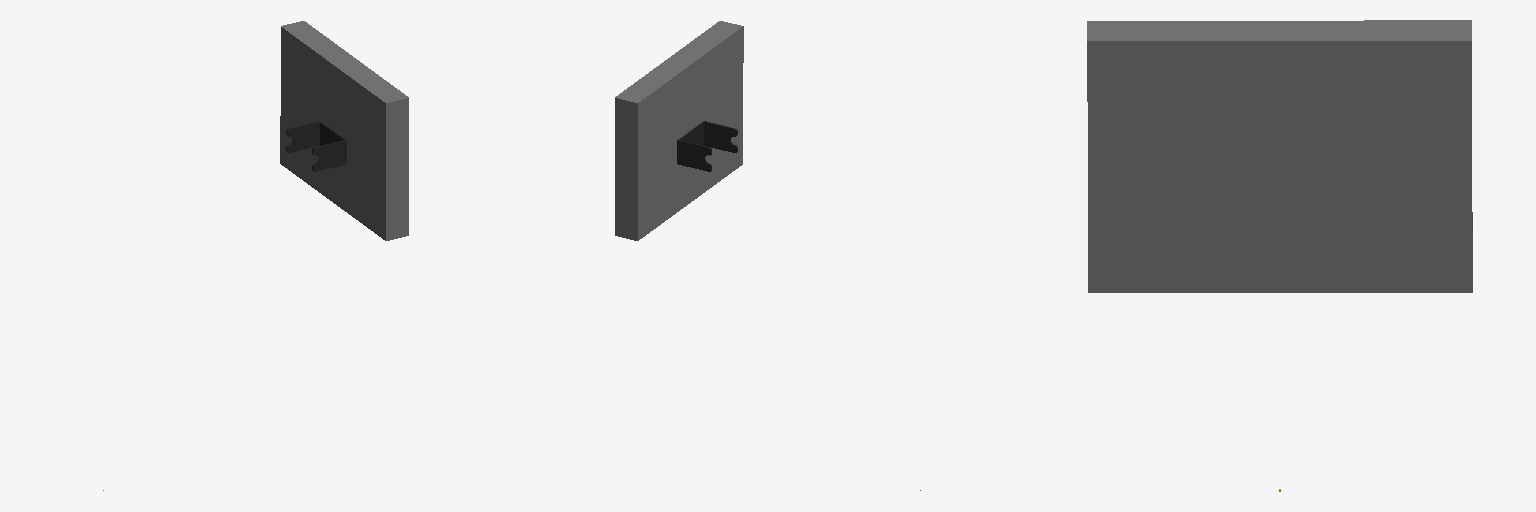
URDF robot description (shutter):
<?xml version="1.0" ?>
<!-- =================================================================================== -->
<!-- |    This document was autogenerated by xacro from shutter.v.2.0.xacro            | -->
<!-- |    EDITING THIS FILE BY HAND IS NOT RECOMMENDED                                 | -->
<!-- =================================================================================== -->
<robot name="shutter">
  <transmission name="tran1">
    <type>transmission_interface/SimpleTransmission</type>
    <joint name="joint_1">
      <hardwareInterface>PositionJointInterface</hardwareInterface>
      <hardwareInterface>EffortJointInterface</hardwareInterface>
    </joint>
    <actuator name="motor1">
      <mechanicalReduction>1</mechanicalReduction>
    </actuator>
  </transmission>
  <transmission name="tran2">
    <type>transmission_interface/SimpleTransmission</type>
    <joint name="joint_2">
      <hardwareInterface>PositionJointInterface</hardwareInterface>
      <hardwareInterface>EffortJointInterface</hardwareInterface>
    </joint>
    <actuator name="motor2">
      <mechanicalReduction>1</mechanicalReduction>
    </actuator>
  </transmission>
  <transmission name="tran3">
    <type>transmission_interface/SimpleTransmission</type>
    <joint name="joint_3">
      <hardwareInterface>PositionJointInterface</hardwareInterface>
      <hardwareInterface>EffortJointInterface</hardwareInterface>
    </joint>
    <actuator name="motor3">
      <mechanicalReduction>1</mechanicalReduction>
    </actuator>
  </transmission>
  <transmission name="tran4">
    <type>transmission_interface/SimpleTransmission</type>
    <joint name="joint_4">
      <hardwareInterface>PositionJointInterface</hardwareInterface>
      <hardwareInterface>EffortJointInterface</hardwareInterface>
    </joint>
    <actuator name="motor4">
      <mechanicalReduction>1</mechanicalReduction>
    </actuator>
  </transmission>
  <!-- base footprint -->
  <link name="base_footprint">
    <visual>
      <origin rpy="0 0 0" xyz="0 0 0"/>
      <geometry>
        <box size="0.001 0.001 0.001"/>
      </geometry>
    </visual>
  </link>
  <!-- links -->
  <link name="base_link">
    <visual>
      <origin rpy="0 0 0" xyz="0 0 0"/>
      <geometry>
        <mesh filename="package://shutter_description/meshes/base_link.stl"/>
      </geometry>
      <material name="">
        <color rgba="0.2 0.2 0.2 1.0"/>
      </material>
    </visual>
    <collision>
      <origin rpy="0 0 0" xyz="0 0 0"/>
      <geometry>
        <mesh filename="package://shutter_description/meshes/base_link.stl"/>
      </geometry>
    </collision>
    <inertial>
      <origin rpy="0 0 0" xyz="0 0 0"/>
      <mass value="1"/>
      <inertia ixx="1.0" ixy="0.0" ixz="0.0" iyy="1.0" iyz="0.0" izz="1.0"/>
    </inertial>
  </link>
  <link name="shoulder_link">
    <visual>
      <origin rpy="0 0 0" xyz="0 0 0"/>
      <geometry>
        <mesh filename="package://shutter_description/meshes/shoulder_link.stl"/>
      </geometry>
      <material name="">
        <color rgba="0.2 0.2 0.2 1.0"/>
      </material>
    </visual>
    <collision>
      <origin rpy="0 0 0" xyz="0 0 0"/>
      <geometry>
        <mesh filename="package://shutter_description/meshes/shoulder_link.stl"/>
      </geometry>
    </collision>
    <inertial>
      <origin rpy="0 0 0" xyz="0 0 0"/>
      <mass value="1"/>
      <inertia ixx="1.0" ixy="0.0" ixz="0.0" iyy="1.0" iyz="0.0" izz="1.0"/>
    </inertial>
  </link>
  <link name="biceps_link">
    <visual>
      <origin rpy="0 0 0" xyz="0 0 0"/>
      <geometry>
        <mesh filename="package://shutter_description/meshes/biceps_link.new.stl"/>
      </geometry>
      <material name="">
        <color rgba="0.2 0.2 0.2 1.0"/>
      </material>
    </visual>
    <collision>
      <origin rpy="0 0 0" xyz="0 0 0"/>
      <geometry>
        <mesh filename="package://shutter_description/meshes/biceps_link.new.stl"/>
      </geometry>
    </collision>
    <inertial>
      <origin rpy="0 0 0" xyz="0 0 0"/>
      <mass value="1"/>
      <inertia ixx="1.0" ixy="0.0" ixz="0.0" iyy="1.0" iyz="0.0" izz="1.0"/>
    </inertial>
  </link>
  <link name="forearm_link">
    <visual>
      <origin rpy="0 0 0" xyz="0 0 0"/>
      <geometry>
        <mesh filename="package://shutter_description/meshes/forearm_link.new.stl"/>
      </geometry>
      <material name="">
        <color rgba="0.2 0.2 0.2 1.0"/>
      </material>
    </visual>
    <collision>
      <origin rpy="0 0 0" xyz="0 0 0"/>
      <geometry>
        <mesh filename="package://shutter_description/meshes/forearm_link.new.stl"/>
      </geometry>
    </collision>
    <inertial>
      <origin rpy="0 0 0" xyz="0 0 0"/>
      <mass value="1"/>
      <inertia ixx="1.0" ixy="0.0" ixz="0.0" iyy="1.0" iyz="0.0" izz="1.0"/>
    </inertial>
  </link>
  <link name="wrist_link">
    <visual>
      <origin rpy="0 0 0" xyz="0 0 0"/>
      <geometry>
        <mesh filename="package://shutter_description/meshes/wrist_link_no_motor.stl"/>
      </geometry>
      <material name="">
        <color rgba="0.2 0.2 0.2 1.0"/>
      </material>
    </visual>
    <collision>
      <origin rpy="0 0 0" xyz="0 0 0"/>
      <geometry>
        <mesh filename="package://shutter_description/meshes/wrist_link_no_motor.stl"/>
      </geometry>
    </collision>
    <inertial>
      <origin rpy="0 0 0" xyz="0 0 0"/>
      <mass value="1"/>
      <inertia ixx="1.0" ixy="0.0" ixz="0.0" iyy="1.0" iyz="0.0" izz="1.0"/>
    </inertial>
  </link>
  <!-- joints -->
  <joint name="arm_base_joint" type="fixed">
    <origin rpy="0.0 0.0 0.0" xyz="0.0 0.0 0.0"/>
    <parent link="base_footprint"/>
    <child link="base_link"/>
  </joint>
  <joint name="joint_1" type="revolute">
    <origin rpy="0 0 0" xyz="0 0 0.125"/>
    <parent link="base_link"/>
    <child link="shoulder_link"/>
    <axis xyz="0 0 1"/>
    <limit effort="6" lower="-2.617" upper="2.617" velocity="0.785"/>
  </joint>
  <joint name="joint_2" type="revolute">
    <!--origin xyz="0.04825 0 0.14203" rpy="0 0 0" /-->
    <origin rpy="0 0 0" xyz="0 0 0"/>
    <parent link="shoulder_link"/>
    <child link="biceps_link"/>
    <axis xyz="0 1 0"/>
    <limit effort="6" lower="-1.571" upper="1.571" velocity="1.571"/>
  </joint>
  <joint name="joint_3" type="revolute">
    <origin rpy="0 1.570795 0" xyz="0.04825 0 0.14203000000000002"/>
    <parent link="biceps_link"/>
    <child link="forearm_link"/>
    <axis xyz="0 -1 0"/>
    <limit effort="6" lower="-1.571" upper="1.571" velocity="1.571"/>
  </joint>
  <joint name="joint_4" type="revolute">
    <origin rpy="0 0 0" xyz="0 0 0.14203000000000002"/>
    <parent link="forearm_link"/>
    <child link="wrist_link"/>
    <axis xyz="0 -1 0"/>
    <limit effort="6" lower="-1.571" upper="1.571" velocity="1.571"/>
  </joint>
  <!-- head -->
  <material name="gray">
    <color rgba="0.5 0.5 0.5 1"/>
  </material>
  <link name="head_link">
    <inertial>
      <mass value="1e-5"/>
      <origin rpy="0 0 0" xyz="0 0 0"/>
      <inertia ixx="1e-6" ixy="0" ixz="0" iyy="1e-6" iyz="0" izz="1e-6"/>
    </inertial>
    <collision>
      <origin rpy="0 0 0" xyz="0 0 0"/>
      <geometry>
        <box size="0.175 0.12615 0.0224"/>
      </geometry>
    </collision>
    <visual>
      <origin rpy="0 0 0" xyz="0 0 0"/>
      <geometry>
        <box size="0.175 0.12615 0.0224"/>
      </geometry>
      <material name="gray"/>
    </visual>
  </link>
  <joint name="head_joint" type="fixed">
    <origin rpy="0 0 1.571" xyz="-0.00803 0 0.041"/>
    <parent link="wrist_link"/>
    <child link="head_link"/>
  </joint>
  <material name="aluminum">
    <color rgba="0.5 0.5 0.5 1"/>
  </material>
  <!-- camera body, with origin at bottom screw mount -->
  <joint name="camera_joint" type="fixed">
    <origin rpy="-1.571 -1.571 0" xyz="0 0.0644 0"/>
    <parent link="head_link"/>
    <child link="camera_bottom_screw_frame"/>
  </joint>
  <link name="camera_bottom_screw_frame"/>
  <joint name="camera_link_joint" type="fixed">
    <origin rpy="0 0 0" xyz="0 0.0175 0.0125"/>
    <parent link="camera_bottom_screw_frame"/>
    <child link="camera_link"/>
  </joint>
  <link name="camera_link">
    <visual>
      <origin rpy="1.5707963267948966 0 1.5707963267948966" xyz="0.0149 -0.0175 0"/>
      <geometry>
        <!-- <box size="${d435_cam_width} ${d435_cam_height} ${d435_cam_depth}"/> -->
        <mesh filename="package://shutter_description/meshes/d435.dae"/>
        <!--<mesh filename="package://realsense2_camera/meshes/d435/d435.dae" />-->
      </geometry>
      <material name="aluminum"/>
    </visual>
    <collision>
      <origin rpy="0 0 0" xyz="0 -0.0175 0"/>
      <geometry>
        <box size="0.02505 0.09 0.025"/>
      </geometry>
    </collision>
    <inertial>
      <!-- The following are not reliable values, and should not be used for modeling -->
      <mass value="0.564"/>
      <origin xyz="0 0 0"/>
      <inertia ixx="0.003881243" ixy="0.0" ixz="0.0" iyy="0.000498940" iyz="0.0" izz="0.003879257"/>
    </inertial>
  </link>
  <!-- camera depth joints and links -->
  <joint name="camera_depth_joint" type="fixed">
    <origin rpy="0 0 0" xyz="0 0 0"/>
    <parent link="camera_link"/>
    <child link="camera_depth_frame"/>
  </joint>
  <link name="camera_depth_frame"/>
  <joint name="camera_depth_optical_joint" type="fixed">
    <origin rpy="-1.5707963267948966 0 -1.5707963267948966" xyz="0 0 0"/>
    <parent link="camera_depth_frame"/>
    <child link="camera_depth_optical_frame"/>
  </joint>
  <link name="camera_depth_optical_frame"/>
  <!-- camera left IR joints and links -->
  <joint name="camera_left_ir_joint" type="fixed">
    <origin rpy="0 0 0" xyz="0 0.0 0"/>
    <parent link="camera_depth_frame"/>
    <child link="camera_left_ir_frame"/>
  </joint>
  <link name="camera_left_ir_frame"/>
  <joint name="camera_left_ir_optical_joint" type="fixed">
    <origin rpy="-1.5707963267948966 0 -1.5707963267948966" xyz="0 0 0"/>
    <parent link="camera_left_ir_frame"/>
    <child link="camera_left_ir_optical_frame"/>
  </joint>
  <link name="camera_left_ir_optical_frame"/>
  <!-- camera right IR joints and links -->
  <joint name="camera_right_ir_joint" type="fixed">
    <origin rpy="0 0 0" xyz="0 -0.05 0"/>
    <parent link="camera_depth_frame"/>
    <child link="camera_right_ir_frame"/>
  </joint>
  <link name="camera_right_ir_frame"/>
  <joint name="camera_right_ir_optical_joint" type="fixed">
    <origin rpy="-1.5707963267948966 0 -1.5707963267948966" xyz="0 0 0"/>
    <parent link="camera_right_ir_frame"/>
    <child link="camera_right_ir_optical_frame"/>
  </joint>
  <link name="camera_right_ir_optical_frame"/>
  <!-- camera color joints and links -->
  <joint name="camera_color_joint" type="fixed">
    <origin rpy="0 0 0" xyz="0 0.015 0"/>
    <parent link="camera_depth_frame"/>
    <child link="camera_color_frame"/>
  </joint>
  <link name="camera_color_frame"/>
  <joint name="camera_color_optical_joint" type="fixed">
    <origin rpy="-1.5707963267948966 0 -1.5707963267948966" xyz="0 0 0"/>
    <parent link="camera_color_frame"/>
    <child link="camera_color_optical_frame"/>
  </joint>
  <link name="camera_color_optical_frame"/>
  <!-- processing eyes on the face -->
  <link name="left_eye"/>
  <joint name="left_eye_joint" type="fixed">
    <!--<origin xyz="0.03175 0 0" rpy="0 0 0"/>-->
    <origin rpy="0 3.14 3.14" xyz="0.03175 0 0"/>
    <parent link="head_link"/>
    <child link="left_eye"/>
  </joint>
  <link name="right_eye"/>
  <joint name="right_eye_joint" type="fixed">
    <!-- <origin xyz="-0.03175 0 0" rpy="0 0 0"/> -->
    <origin rpy="0 3.14 3.14" xyz="-0.03175 0 0"/>
    <parent link="head_link"/>
    <child link="right_eye"/>
  </joint>
</robot>

--- What the picture shows (computed from the rendered views, not written in the file) ---
The picture shows the robot from 3 angles, left to right: view 1: azimuth 30°, elevation 25°; view 2: azimuth 150°, elevation 25°; view 3: azimuth 270°, elevation 25°; orthographic projection.
Robot: shutter — 19 links, 18 joints (4 revolute, 14 fixed); root link base_footprint; default pose: every joint at zero.
Links seen in each view (by area): view 1: head_link, wrist_link; view 2: head_link, wrist_link; view 3: head_link.
Link boxes in pixels (x1,y1,x2,y2): head_link: (280, 21, 408, 240); wrist_link: (286, 121, 346, 171); head_link: (615, 21, 743, 240); wrist_link: (677, 121, 737, 171); head_link: (1087, 20, 1472, 292).
Size in the robot's own frame: 0.243 by 0.175 by 0.3387 metres.
1 mesh visuals loaded from 6 distinct referenced files (1 binary STL); not drawn: 5 (reference not matched to a file when rendering).